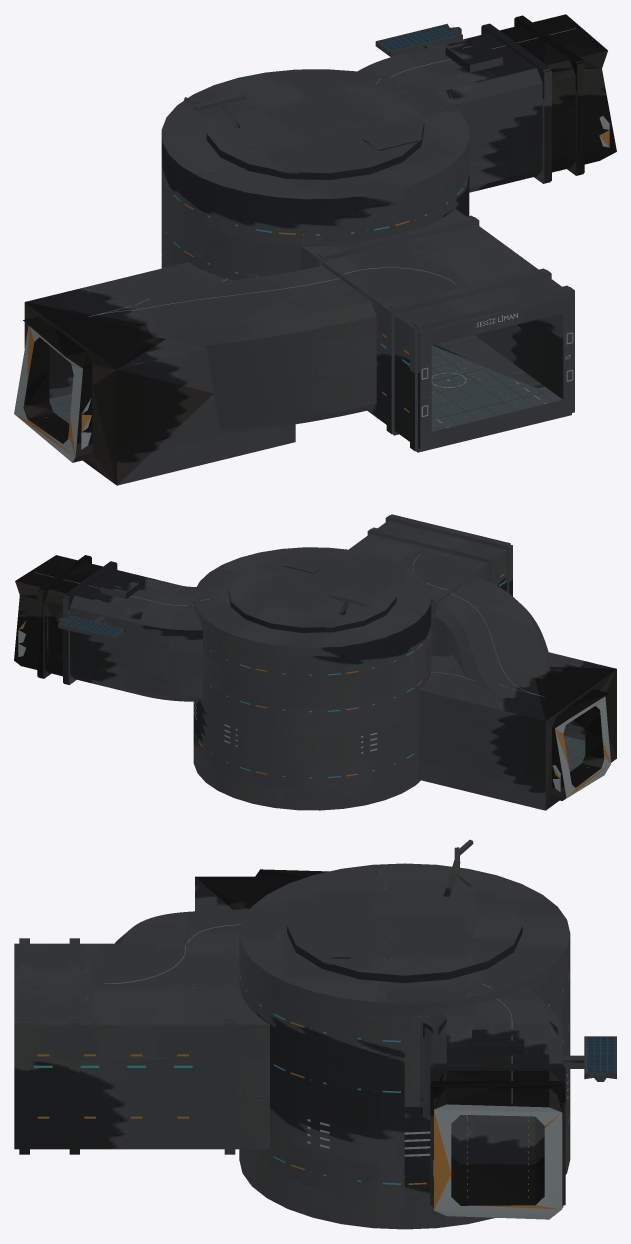
The model's file is sessiz_liman.glb.
3 renders of one model, top to bottom at view 1: azimuth 30°, elevation 25°; view 2: azimuth 150°, elevation 25°; view 3: azimuth 270°, elevation 25°, orthographic. The views are drawn at different scales.
Visible parts, largest first — view 1: lod0; view 2: lod0; view 3: lod0.
Boxes of the visible parts, x1,y1,x2,y2 form: lod0: [14, 14, 616, 485]; lod0: [14, 514, 616, 810]; lod0: [14, 839, 616, 1229].
Size of what is drawn, in the model's own units: 676 by 259 by 517.
Materials: 1 (1 with a texture image).
